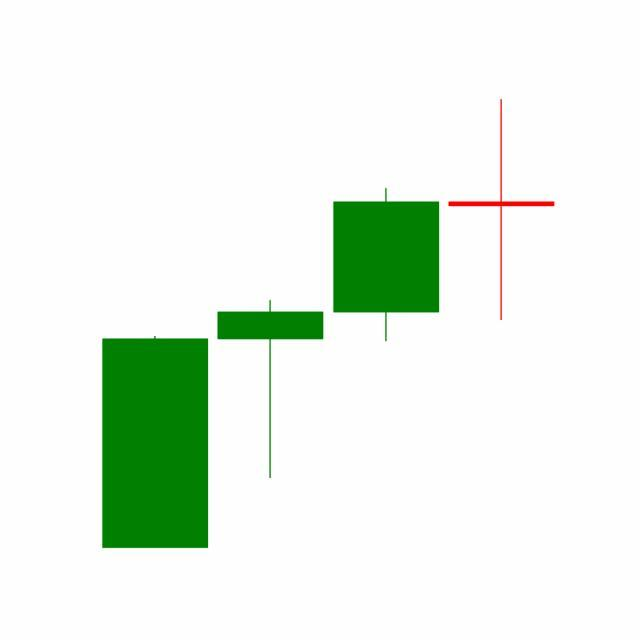Marubozu: (329, 187, 445, 344)
